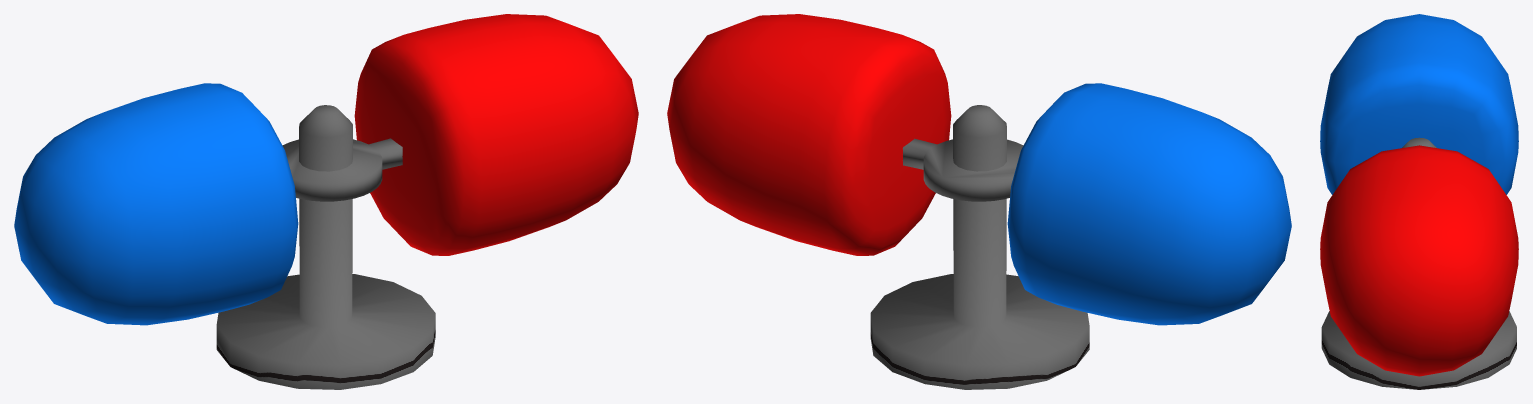
File: Rotating Siren Mesh.fbx
3 views of the same model, side by side, from view 1: azimuth 30°, elevation 25°; view 2: azimuth 150°, elevation 25°; view 3: azimuth 270°, elevation 25° (orthographic). The views are drawn at different scales.
Visible parts, largest first — view 1: Rotating Siren Part; view 2: Rotating Siren Part; view 3: Rotating Siren Part.
Part boxes in pixels (x1,y1,x2,y2): Rotating Siren Part: (14,14,638,389); Rotating Siren Part: (667,14,1291,389); Rotating Siren Part: (1320,14,1518,389).
Size of the model in its own units: 194 by 85.61 by 63.26.
